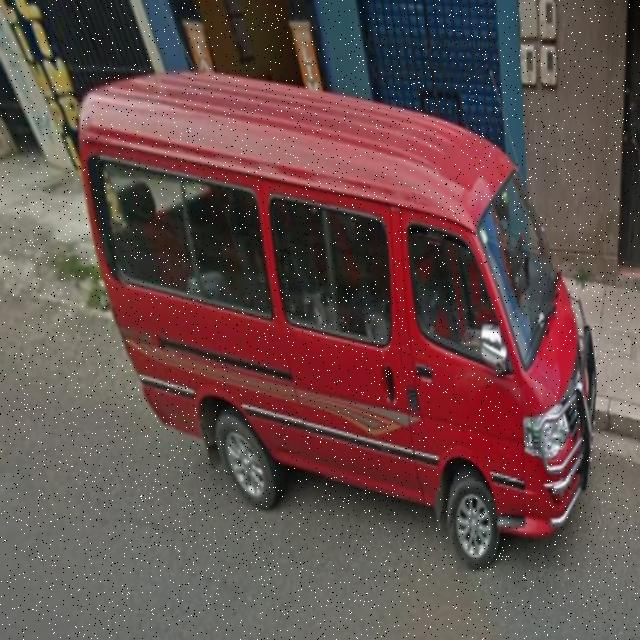cars: (80, 64, 604, 544)
